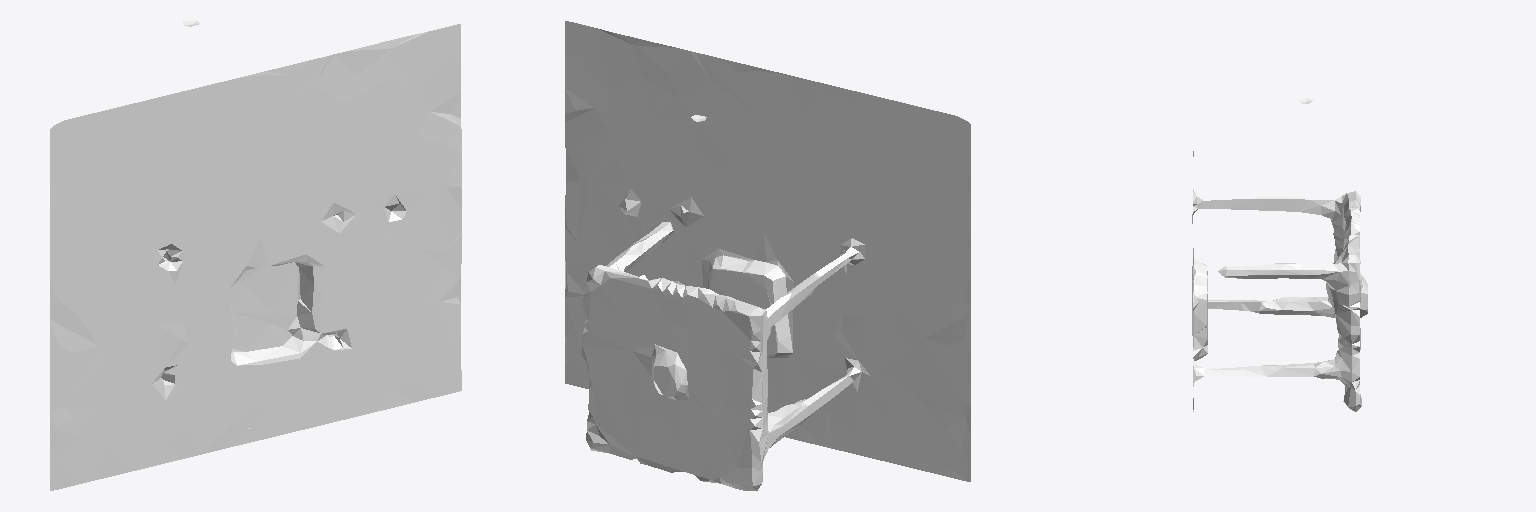
robot.urdf — table:
<?xml version="0.0" ?>
<robot name="table">
  <link name="tableLink">
  <contact>
      <lateral_friction value="1"/>
  </contact>
    <inertial>
      <origin rpy="0 0 0" xyz="0 0 0"/>
       <mass value=".0"/>
       <inertia ixx="0" ixy="0" ixz="0" iyy="0" iyz="0" izz="0"/>
    </inertial>
    <visual>
      <origin rpy="0 0 0" xyz="0 0 0"/>
      <geometry>
				<mesh filename="textured.obj" scale="1 1 1"/>
      </geometry>
       <material name="white">
        <color rgba="1 1 1 1"/>
      </material>
    </visual>
    <collision>
      <origin rpy="0 0 0" xyz="0 0 -500"/>
      <geometry>
	 	<box size="0 0 0"/>
      </geometry>
    </collision>
  </link>
</robot>

--- What the picture shows (computed from the rendered views, not written in the file) ---
Views: 3 orthographic renders of the robot side by side, from view 1: azimuth 30°, elevation 25°; view 2: azimuth 150°, elevation 25°; view 3: azimuth 270°, elevation 25°.
Model table with 1 links and 0 joints (none), rooted at tableLink, posed every joint at zero.
Visible links, largest first — view 1: tableLink; view 2: tableLink; view 3: tableLink.
Boxes of the visible links, <box> form: tableLink: <box>50,20,461,490</box>; tableLink: <box>565,21,970,490</box>; tableLink: <box>1192,98,1367,411</box>.
Size in the robot's own frame: 2.12 by 0.9444 by 1.82 metres.
1 mesh visuals loaded from 1 distinct referenced files (1 OBJ).